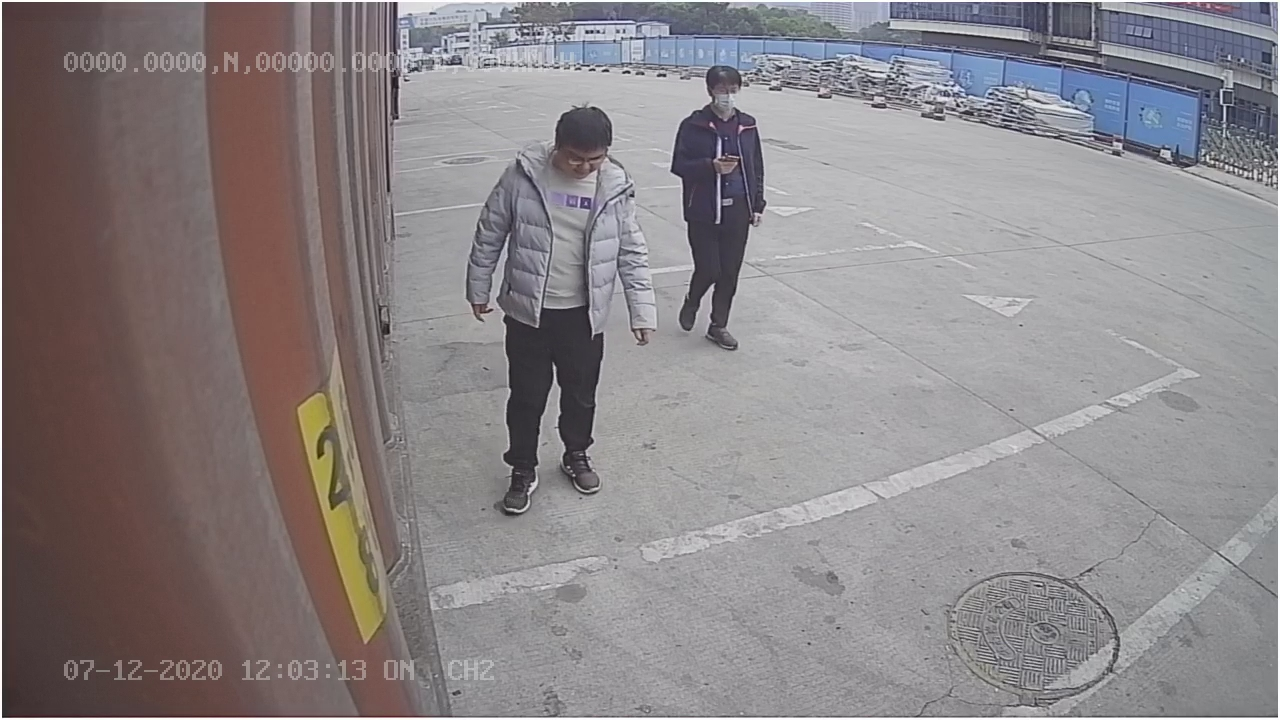person: (463, 101, 658, 515), (673, 51, 763, 351)
